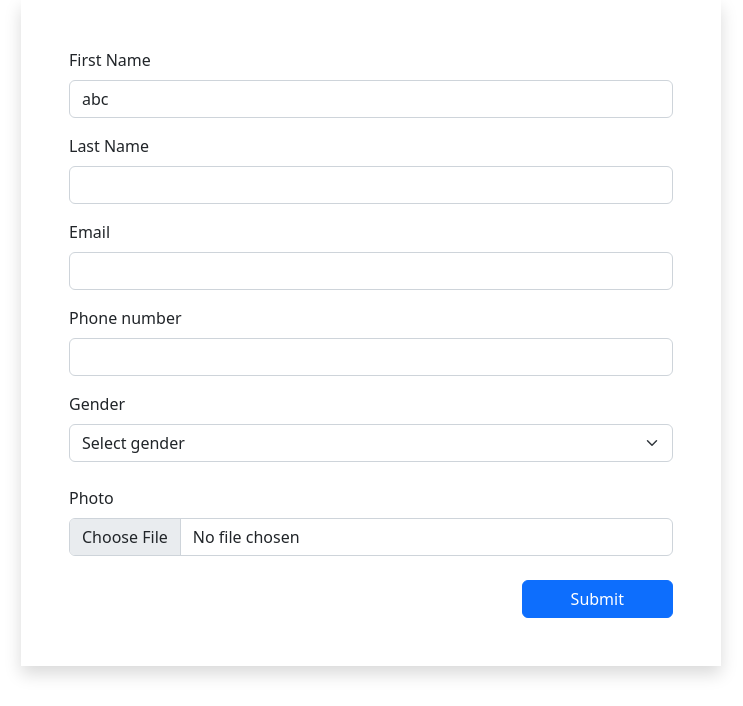
Test case: Testing form component › Providing firstname with characters less than 6
The image size is (743, 706).
Click the button "Submit" at [597, 599], box top-left (522, 580), bottom-right (673, 618)
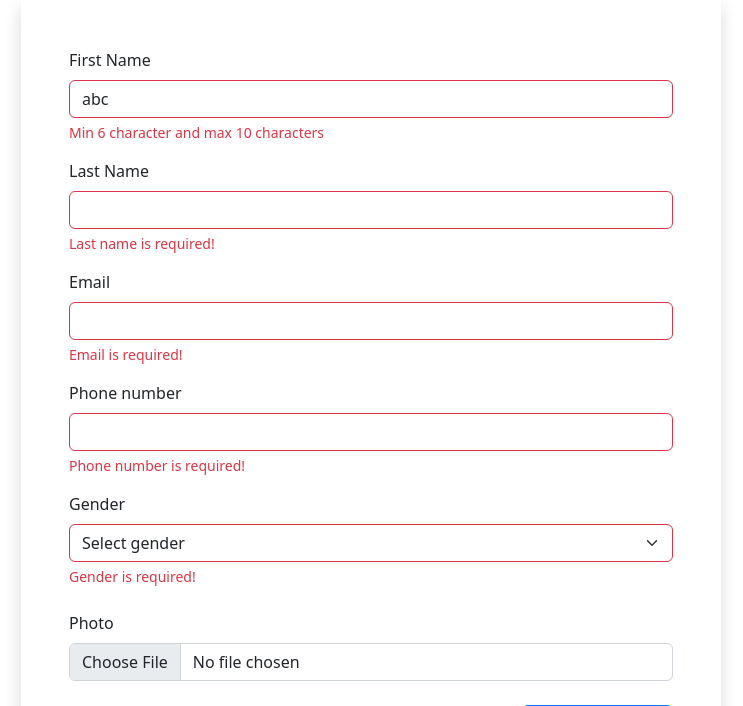
Expected: the text "Min 6 character and max 10 characters" is shown, top-left (69, 123), bottom-right (324, 142)
